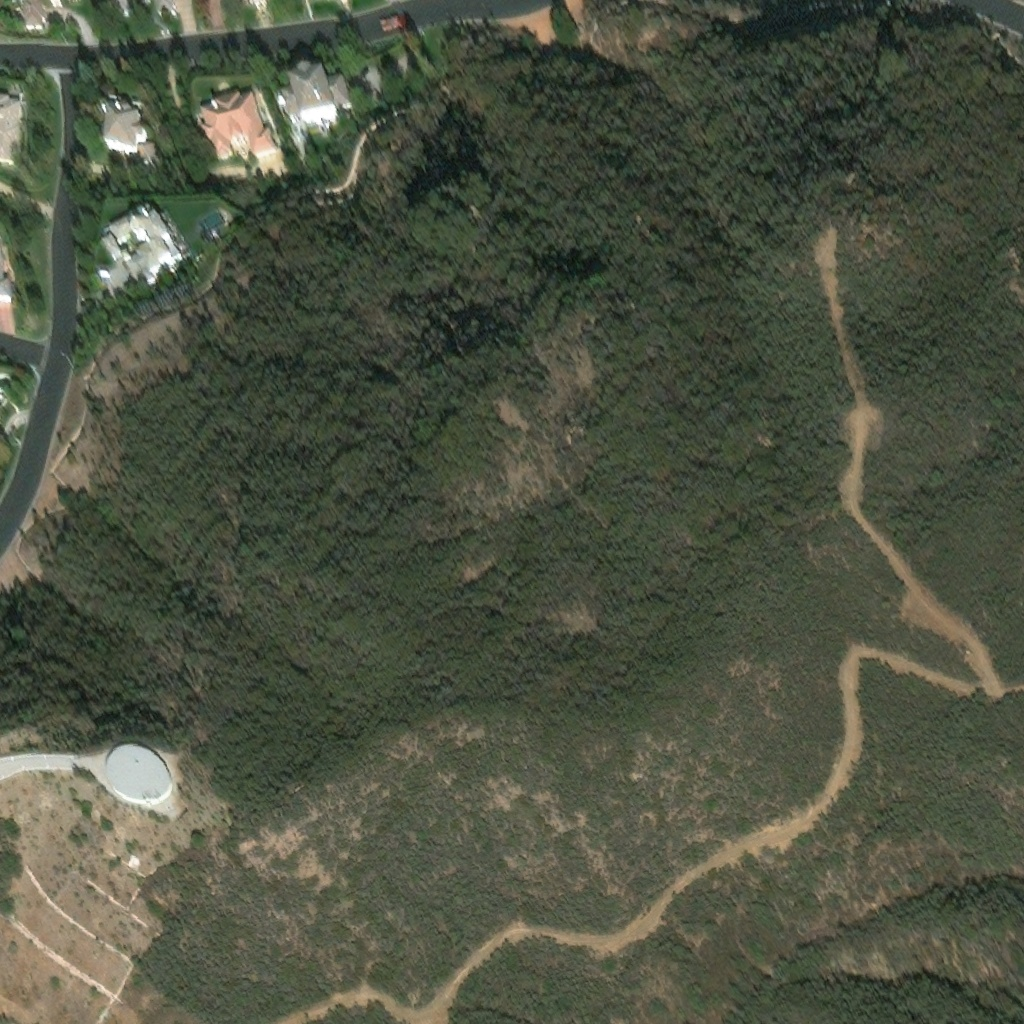0 no-damage: (89, 196, 183, 281), (193, 77, 269, 136), (107, 747, 170, 805), (275, 56, 343, 102), (101, 97, 151, 150), (148, 266, 186, 296), (25, 0, 45, 32), (0, 248, 10, 297), (10, 90, 29, 105), (129, 288, 146, 303), (155, 0, 172, 9), (112, 0, 131, 8), (0, 410, 4, 422), (66, 0, 81, 3), (49, 0, 60, 4)
